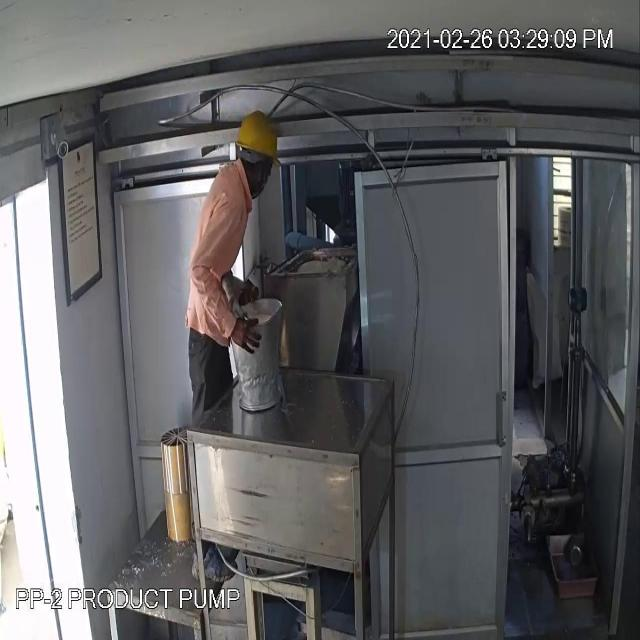helmet: (231, 105, 282, 174)
